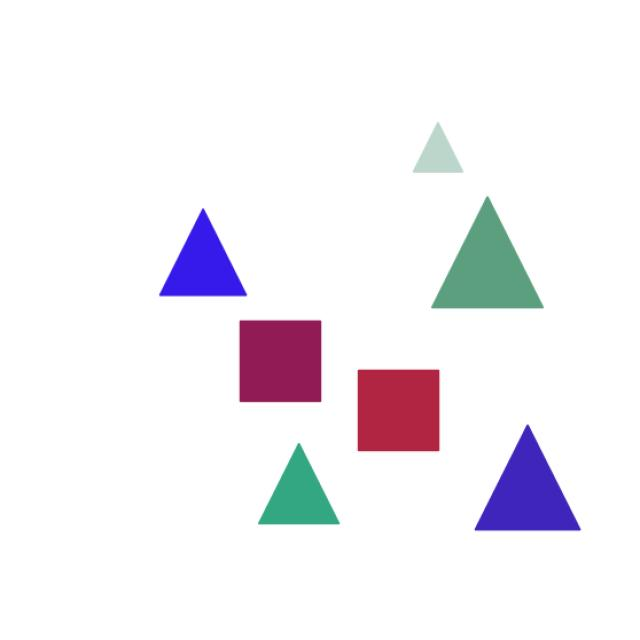Triangle: (461, 395, 606, 565), (420, 186, 581, 321), (126, 200, 247, 308), (246, 433, 348, 542), (401, 120, 469, 190)
square: (225, 311, 344, 414), (348, 361, 452, 455)
